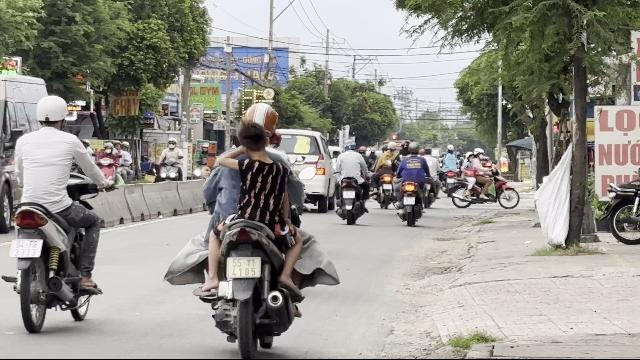helmet: (238, 102, 282, 136), (32, 94, 68, 130)
licenseplate: (228, 256, 260, 278), (11, 238, 41, 258)
motorcyclist: (164, 100, 338, 356), (1, 94, 107, 330)
nohelmet: (234, 122, 272, 166)
